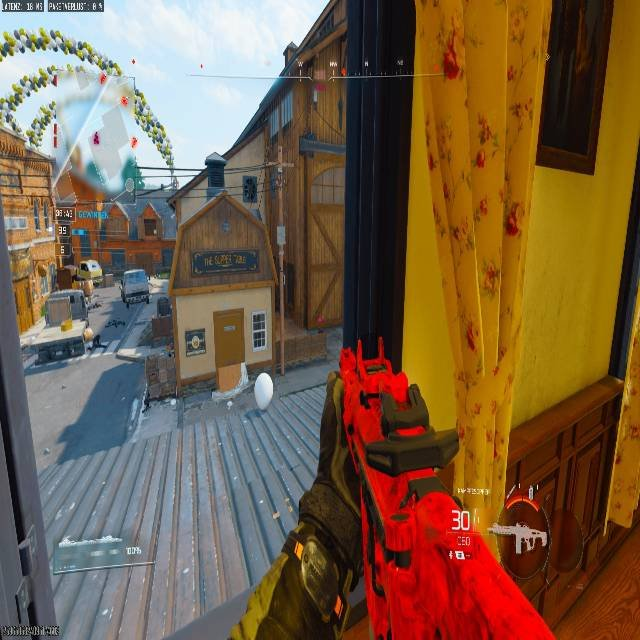player: (65, 256, 104, 338)
